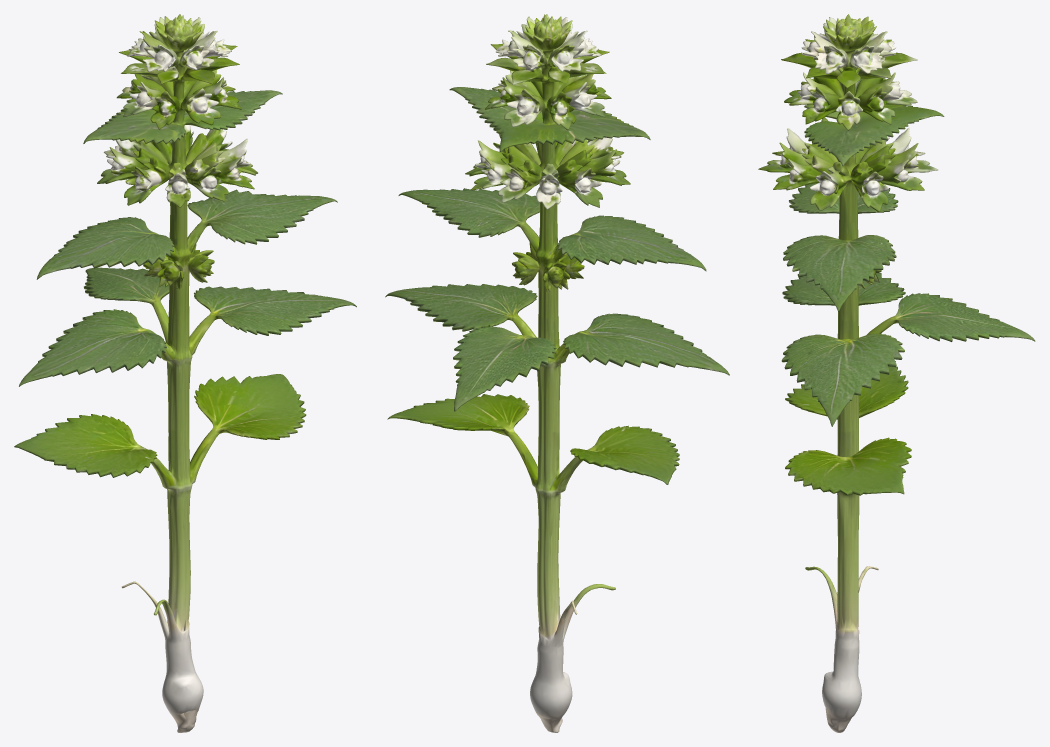
The model's file is zelan.glb.
3 views of the same model, side by side, from view 1: azimuth 30°, elevation 25°; view 2: azimuth 150°, elevation 25°; view 3: azimuth 270°, elevation 25° (orthographic).
Parts seen in each view (by area): view 1: node_0; view 2: node_0; view 3: node_0.
Part boxes in pixels (bbox=[...]): node_0: bbox=[14, 14, 356, 732]; node_0: bbox=[385, 14, 729, 732]; node_0: bbox=[758, 14, 1035, 732].
Bounding box in the file's own units: 0.5909 × 1.19 × 0.416.
Materials: 1 (1 with a texture image).
